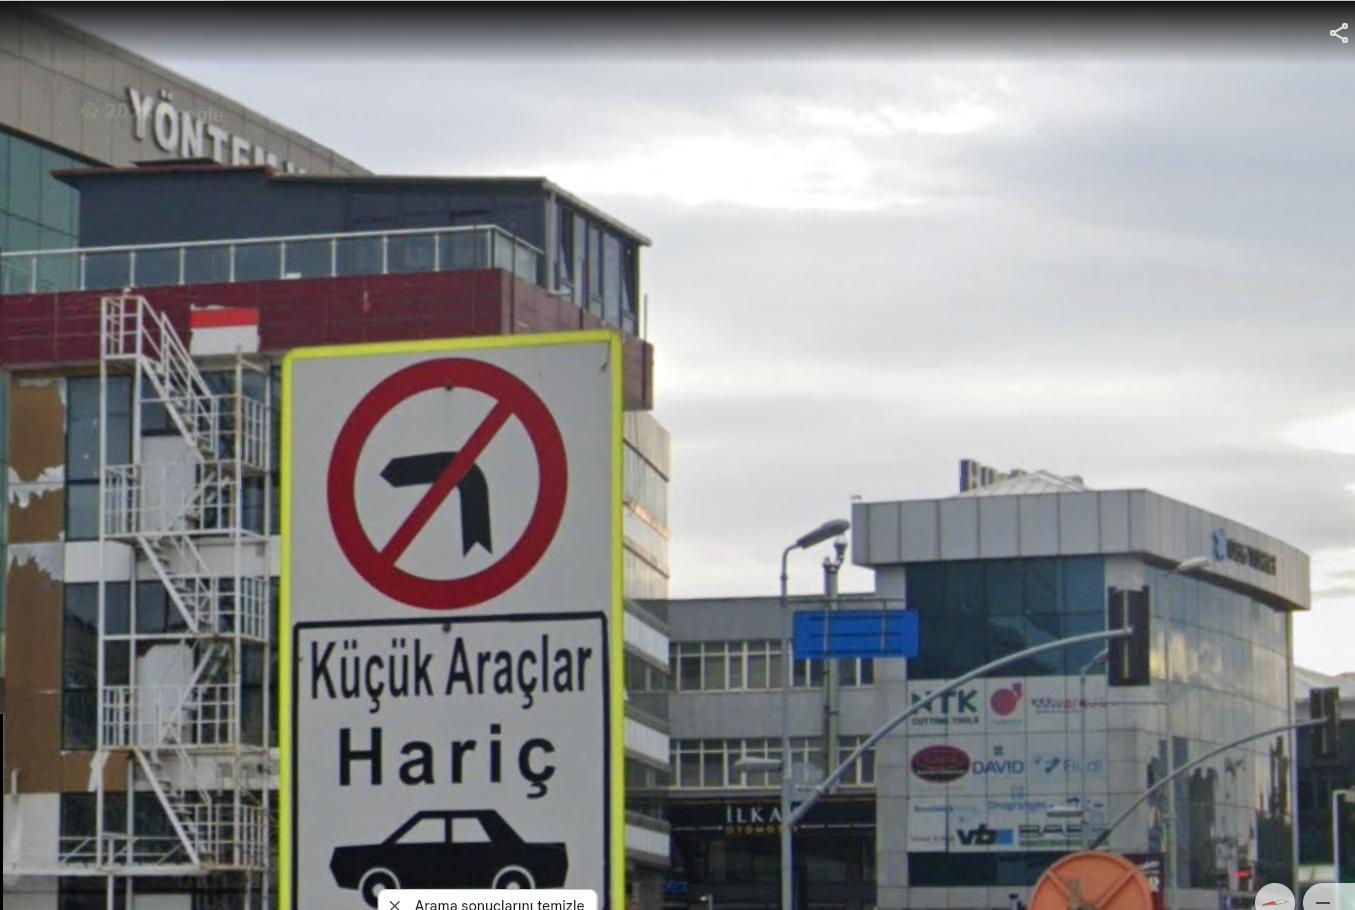leftturnsareforbidden: (329, 356, 567, 610)
